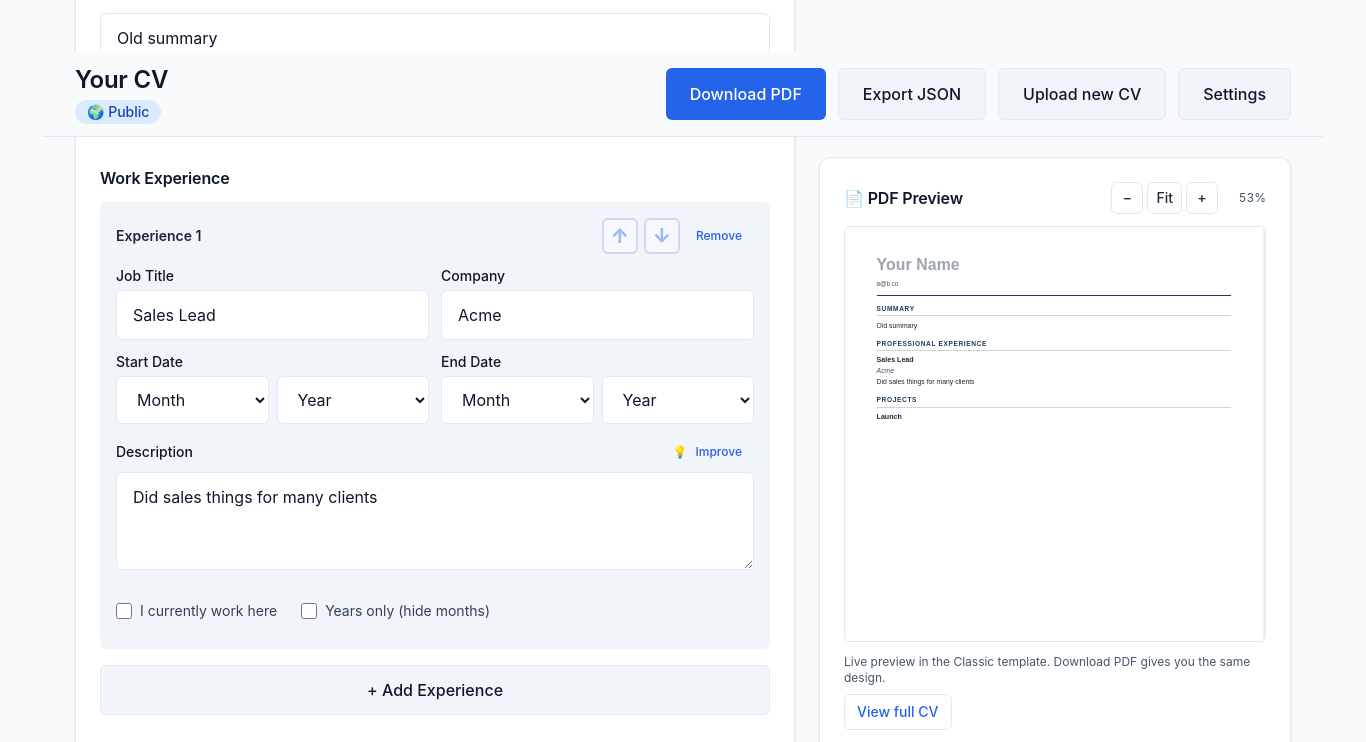
Test: 💡 field suggestions › says so when nothing needs to change
This screenshot has width=1366, height=742.
(page scrolled)
Step 1. Click the button with aria-label "Improve Experience 1 Description" → x=707, y=452, box [660,436,754,468]
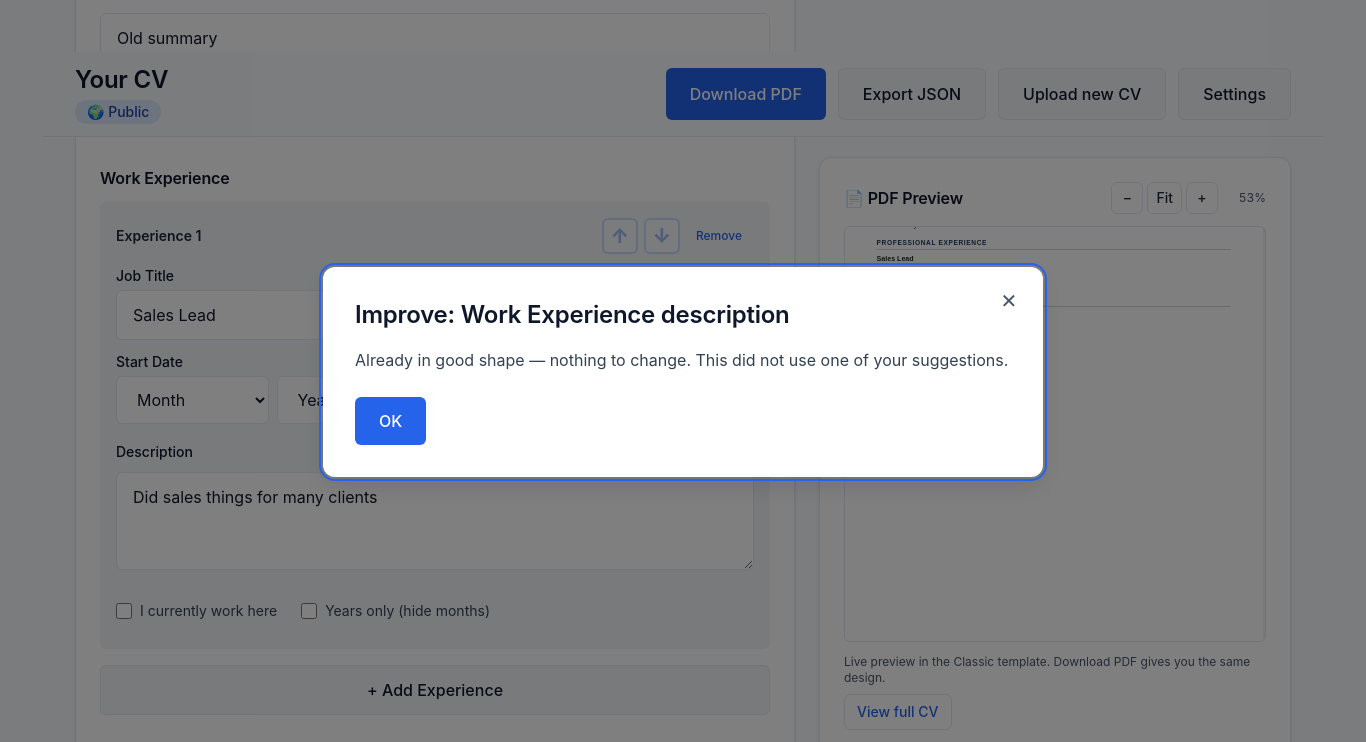
expect the text "Already in good shape" is shown: met, box [355,350,1008,370]
